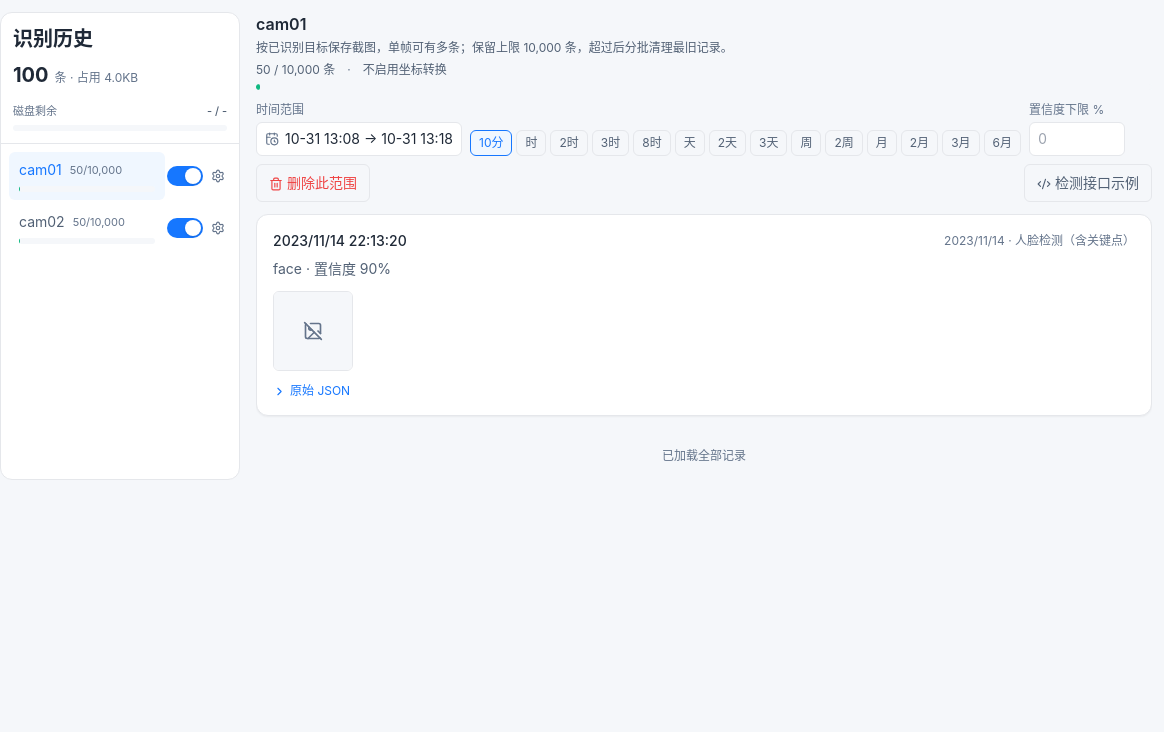
Scenario: RecognitionHistoryPage —— 热切换归档 › 每通道开关只更新归档，关闭后仍显示已有历史和计数
Click the switch named "「cam01」识别历史归档" at point(185, 176), box [167,166,203,186]
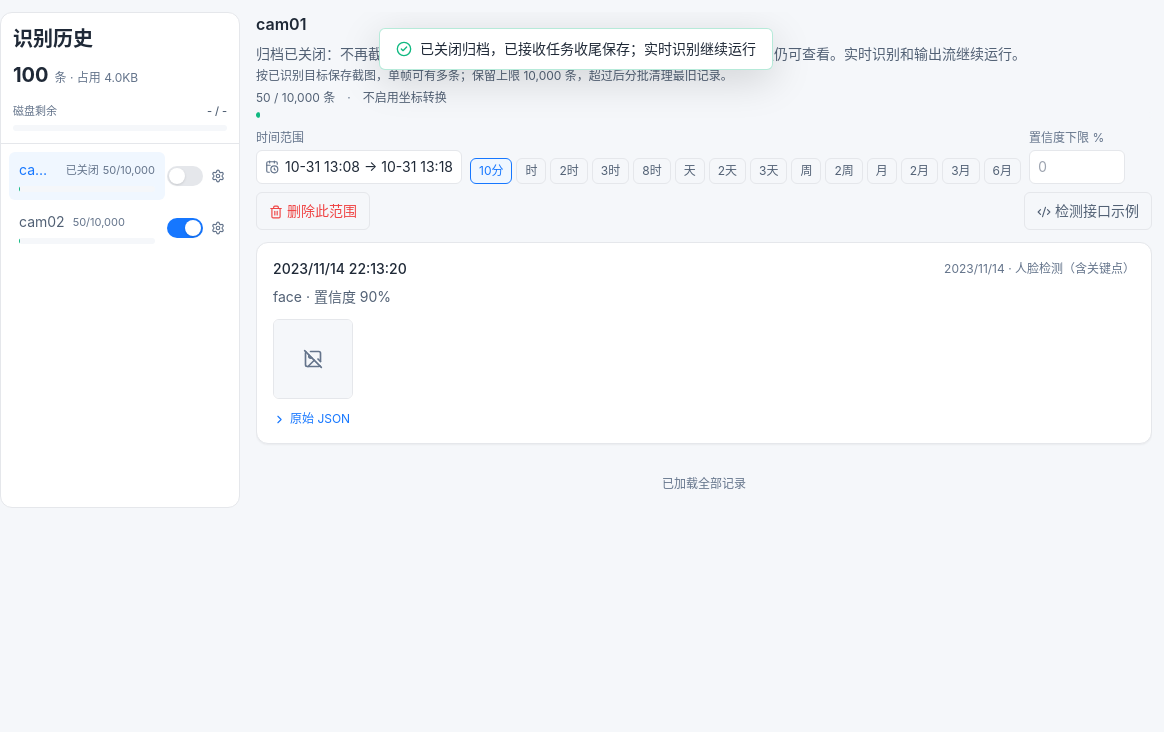
Check: the text "100" is shown, box [13,61,49,89]
Check: the text "归档已关闭：不再截取、处理或保存新的识别截图；已接收任务收尾保存，已有历史仍可查看。实时识别和输出流继续运行。" is shown, box [256,44,1152,64]
